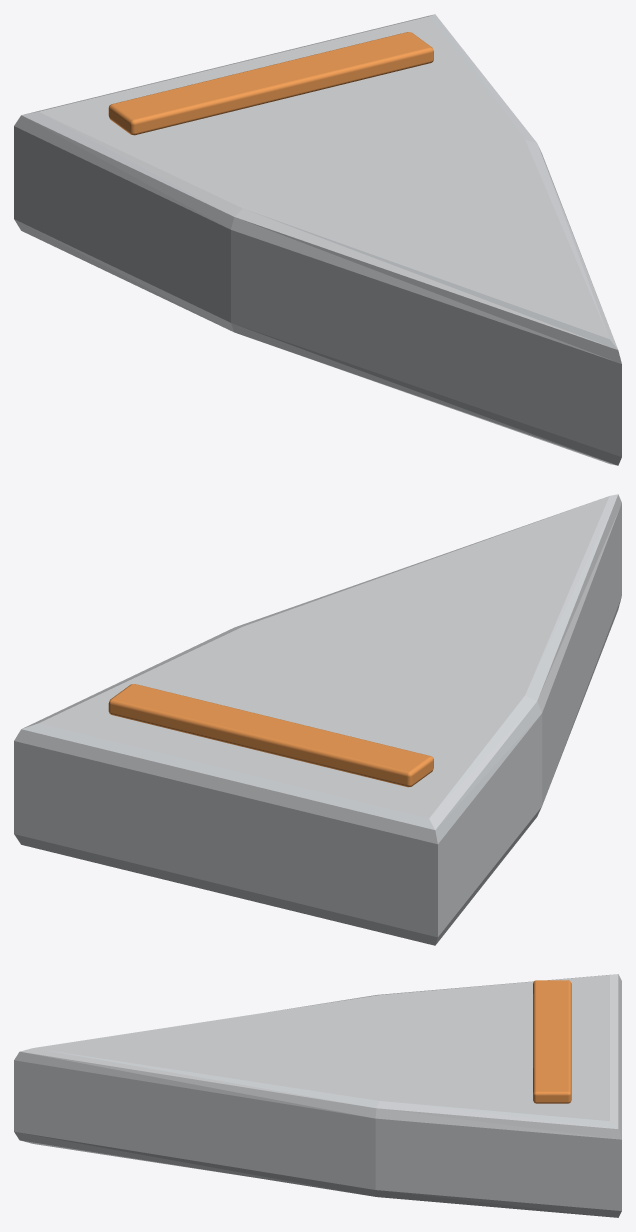
The model's file is bow-3.glb.
The picture shows the model from 3 angles, top to bottom: view 1: azimuth 30°, elevation 25°; view 2: azimuth 150°, elevation 25°; view 3: azimuth 270°, elevation 25°; orthographic projection. The views are drawn at different scales.
Visible parts, largest first — view 1: bow-ram; view 2: bow-ram; view 3: bow-ram.
Boxes of the visible parts, box(x1,y1,x2,y2) form: bow-ram: box(14, 14, 621, 465); bow-ram: box(14, 494, 621, 945); bow-ram: box(14, 974, 621, 1217).
Bounding box in the file's own units: 1.95 × 0.62 × 3.16.
